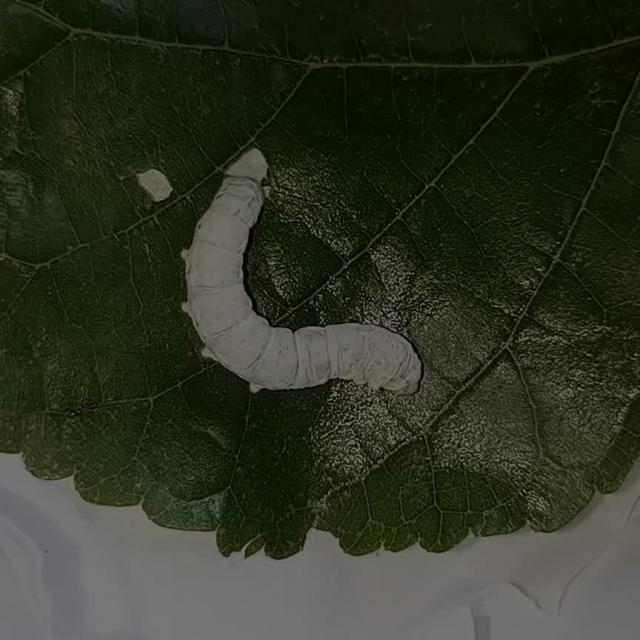Healthy: (156, 123, 442, 424)
